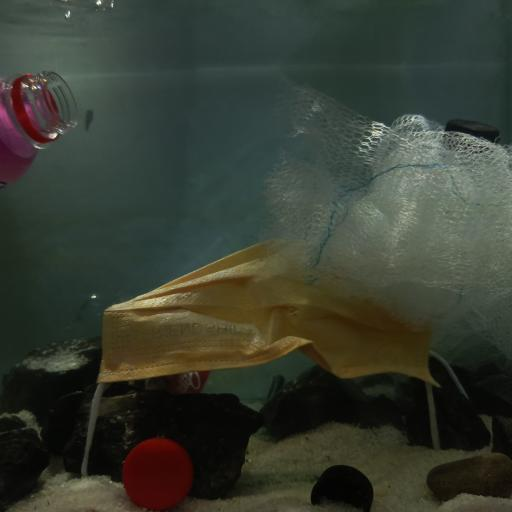bottle_cap: (122, 436, 193, 512), (308, 463, 376, 512), (445, 117, 499, 155)
mask: (100, 229, 441, 399)
net: (257, 75, 512, 372)
plastic_bottle: (69, 287, 288, 404), (0, 66, 81, 189)
